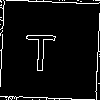T: (24, 25, 57, 72)
